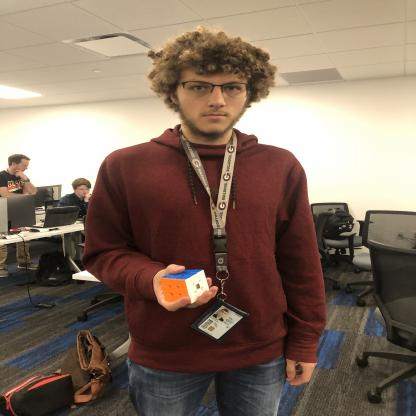SolvedCube: (161, 269, 211, 308)
